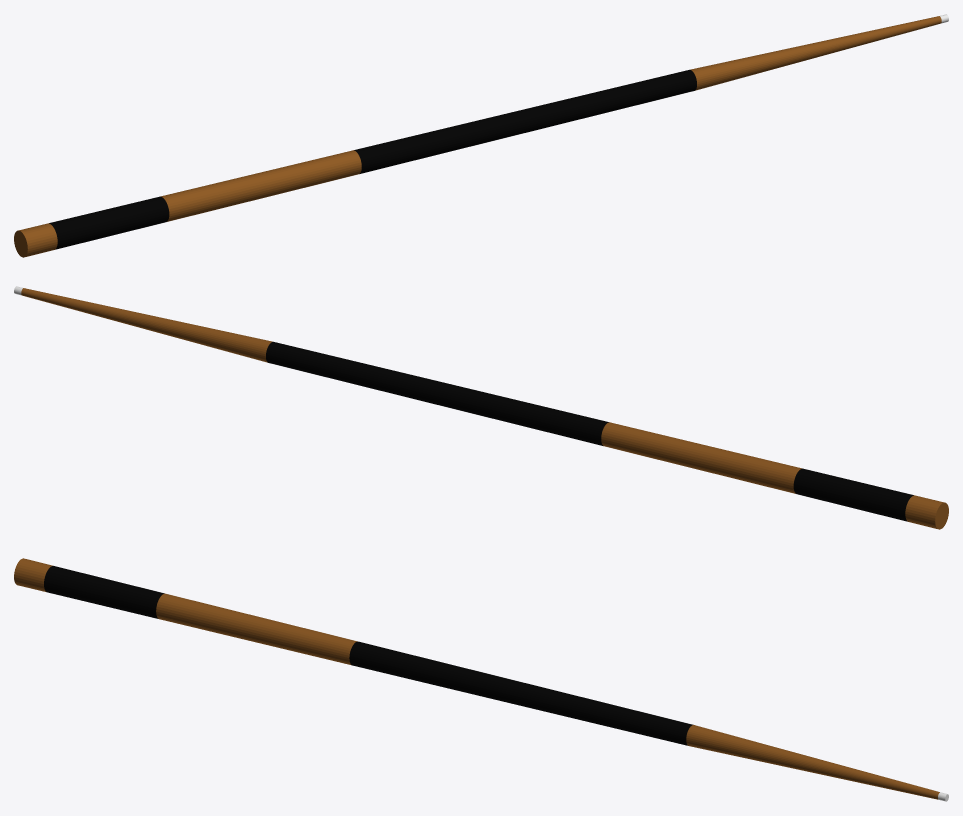
File: stick.glb
The picture shows the model from 3 angles, top to bottom: view 1: azimuth 30°, elevation 25°; view 2: azimuth 150°, elevation 25°; view 3: azimuth 330°, elevation 25°; orthographic projection.
Visible parts, largest first — view 1: Cylinder; view 2: Cylinder; view 3: Cylinder.
Part boxes in pixels (left/top/right/bottom): Cylinder: left=14, top=14, right=948, bottom=257; Cylinder: left=14, top=286, right=948, bottom=529; Cylinder: left=14, top=558, right=948, bottom=801.
Size of the model in its own units: 9.76 by 0.253 by 0.253.
